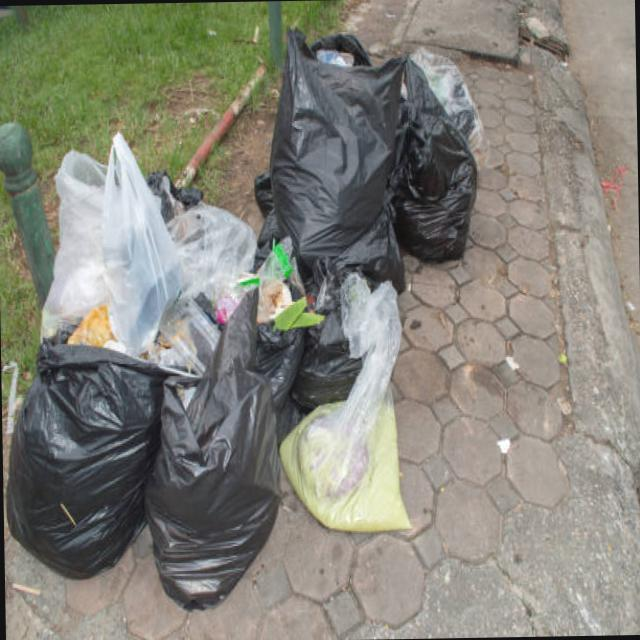garbage: (0, 15, 500, 617)
